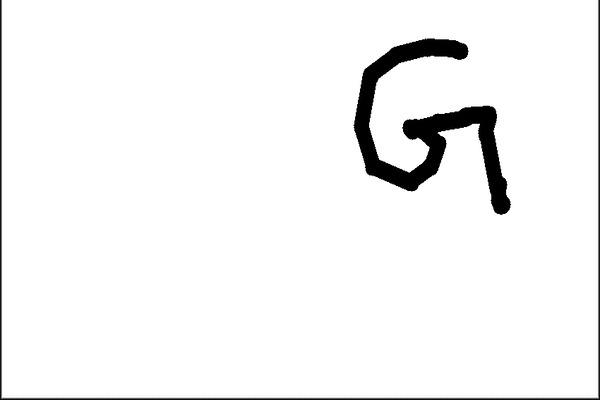G: (348, 34, 516, 218)
